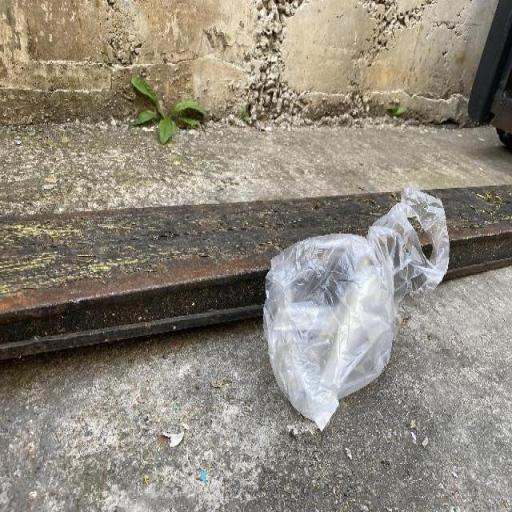plastic-bag: (260, 182, 452, 436)
